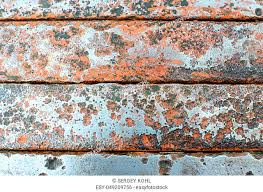rust: (105, 87, 263, 154), (96, 23, 248, 55), (96, 59, 262, 87), (3, 102, 39, 130), (18, 52, 55, 77), (46, 25, 75, 51), (50, 99, 77, 122), (76, 99, 100, 124)
